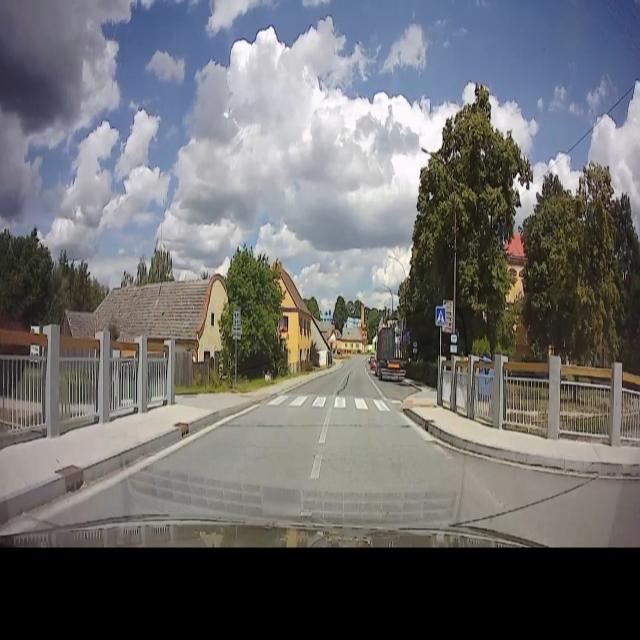Pedestrian crosswalk: (268, 388, 392, 416), (435, 304, 446, 328)
